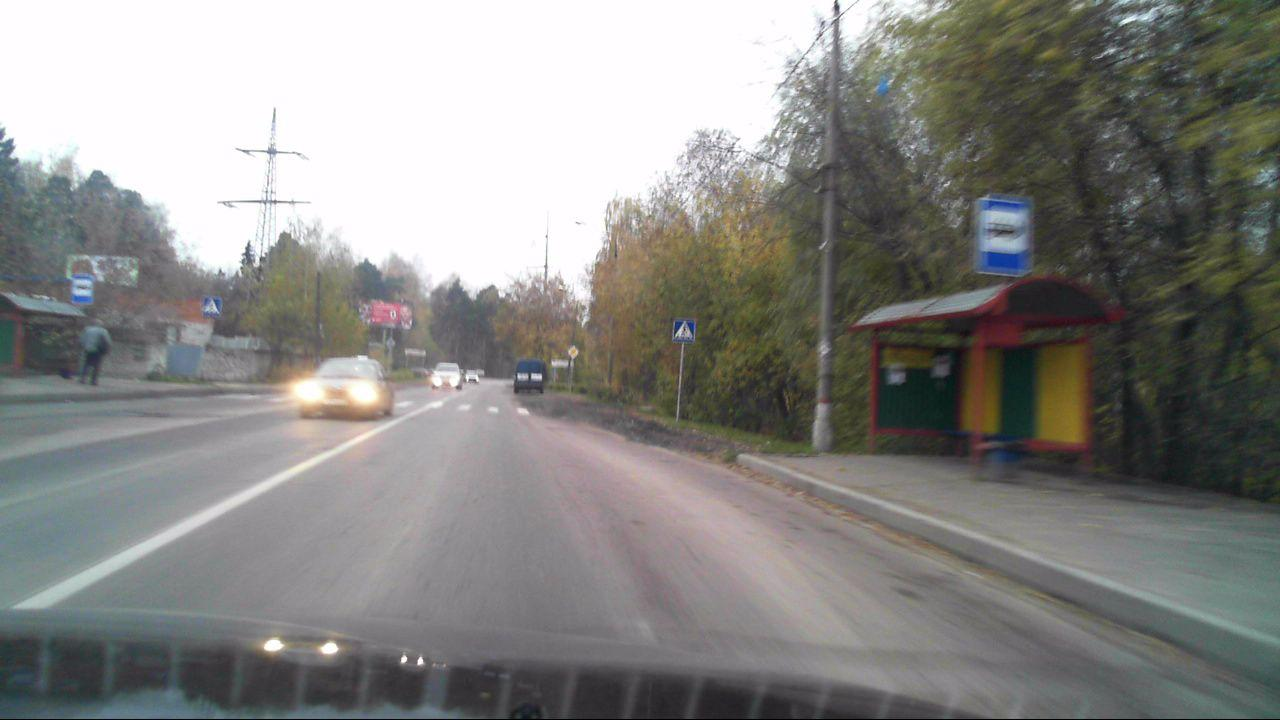road_sign: (978, 199, 1035, 276), (673, 318, 697, 342)
